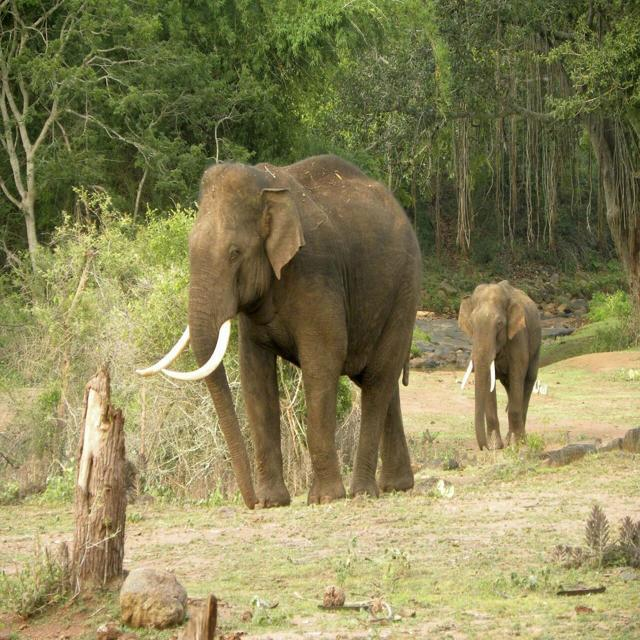Elephant: (152, 132, 430, 504), (454, 272, 566, 464)
